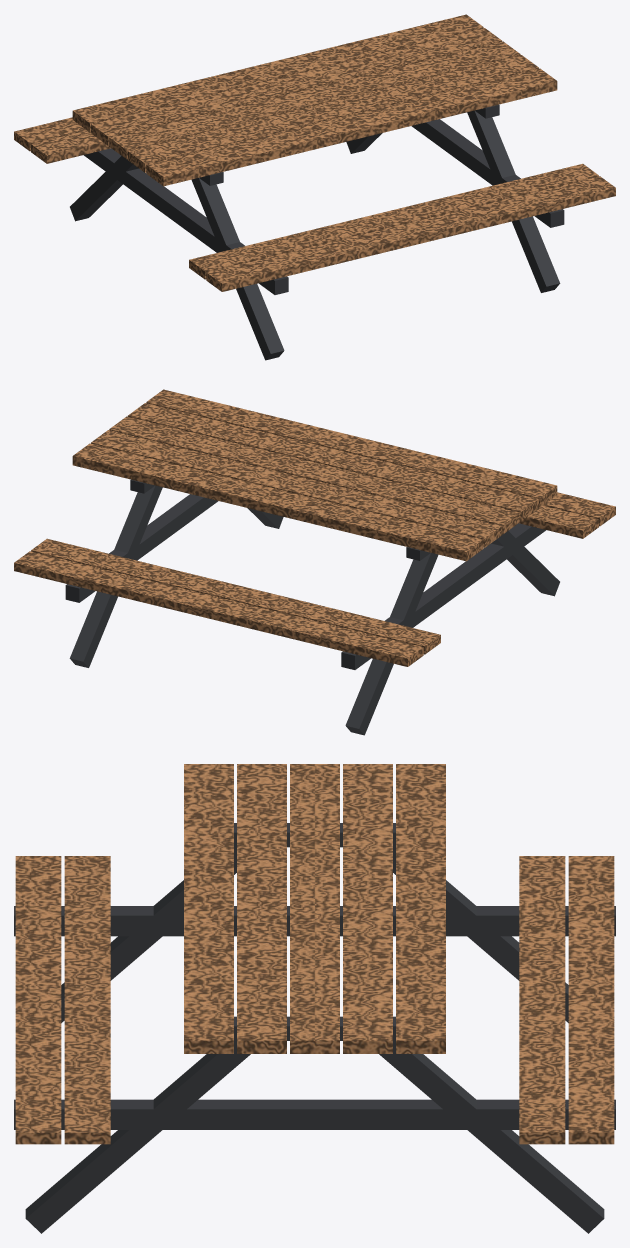
3 renders of one model, top to bottom at view 1: azimuth 30°, elevation 25°; view 2: azimuth 150°, elevation 25°; view 3: azimuth 270°, elevation 25°, orthographic. The views are drawn at different scales.
Parts seen in each view (by area): view 1: benchWidth=0.3;benches=true;frameMaterial=steel_dark;height= (×2); view 2: benchWidth=0.3;benches=true;frameMaterial=steel_dark;height= (×2); view 3: benchWidth=0.3;benches=true;frameMaterial=steel_dark;height= (×2).
Part boxes in pixels (left/top/right/bottom): benchWidth=0.3;benches=true;frameMaterial=steel_dark;height= (×2): left=14, top=14, right=615, bottom=360; benchWidth=0.3;benches=true;frameMaterial=steel_dark;height= (×2): left=14, top=389, right=615, bottom=735; benchWidth=0.3;benches=true;frameMaterial=steel_dark;height= (×2): left=14, top=764, right=615, bottom=1233.
Bounding box in the file's own units: 2 × 1.84 × 0.7754.
2 materials, 1 textured.
